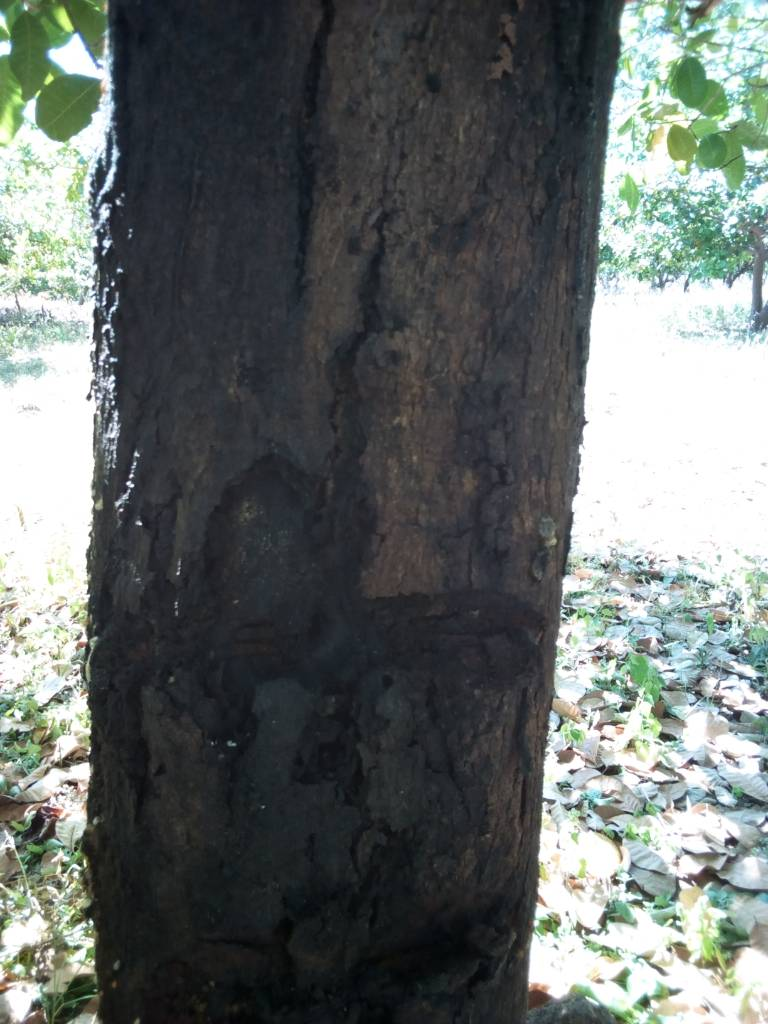Gommose: (77, 458, 530, 1017)
